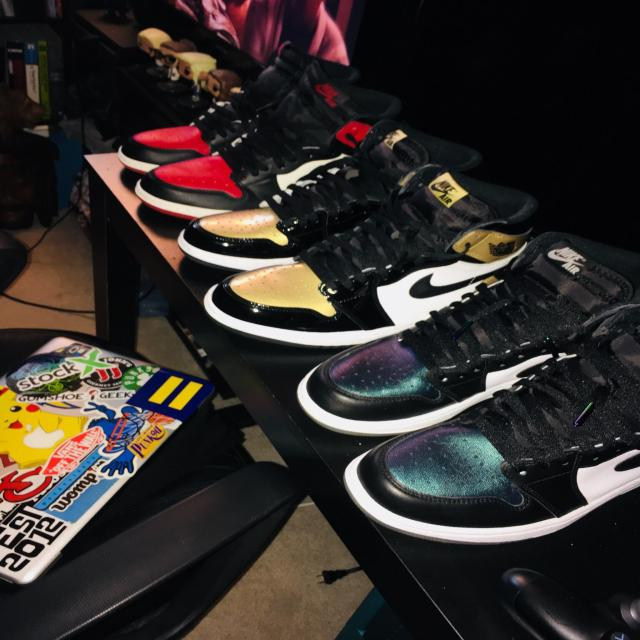shoe: (288, 230, 640, 461), (197, 153, 560, 364), (328, 329, 640, 553), (165, 111, 462, 287), (128, 85, 423, 232)
